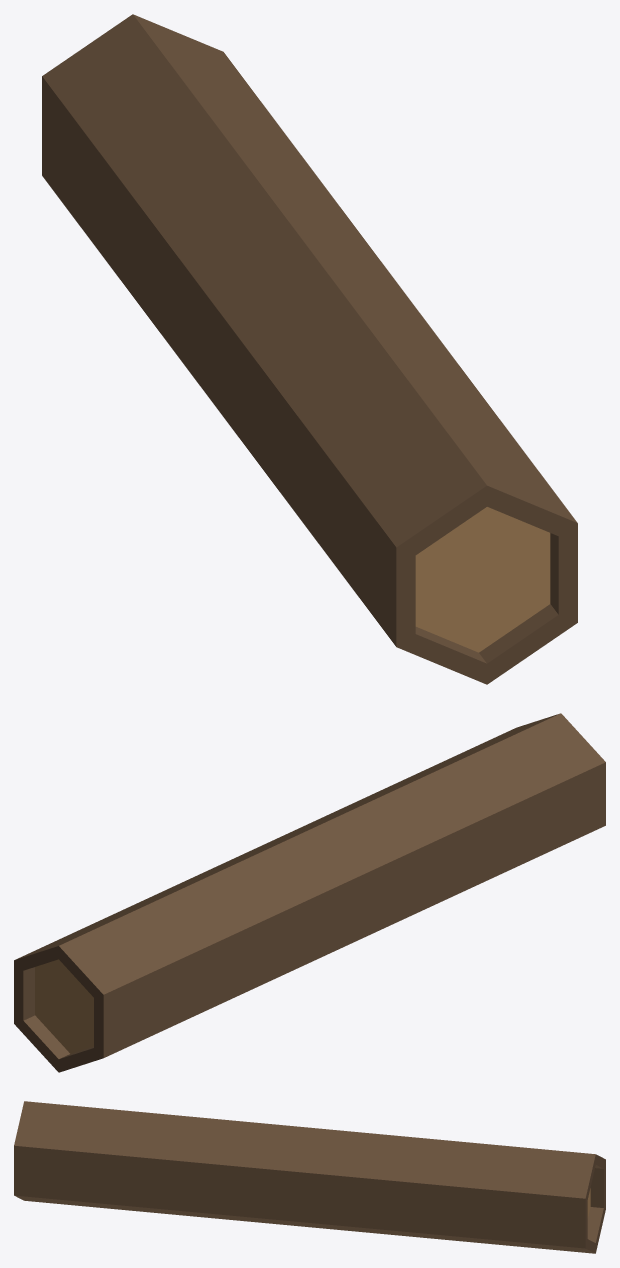
File: tronc.fbx
The picture shows the model from 3 angles, top to bottom: view 1: azimuth 30°, elevation 25°; view 2: azimuth 150°, elevation 25°; view 3: azimuth 270°, elevation 25°; orthographic projection. The views are drawn at different scales.
Parts seen in each view (by area): view 1: Cylinder; view 2: Cylinder; view 3: Cylinder.
Part boxes in pixels (left/top/right/bottom): Cylinder: left=42, top=14, right=577, bottom=684; Cylinder: left=14, top=713, right=605, bottom=1072; Cylinder: left=14, top=1101, right=605, bottom=1253.
Size of the model in its own units: 100 by 50.44 by 272.
